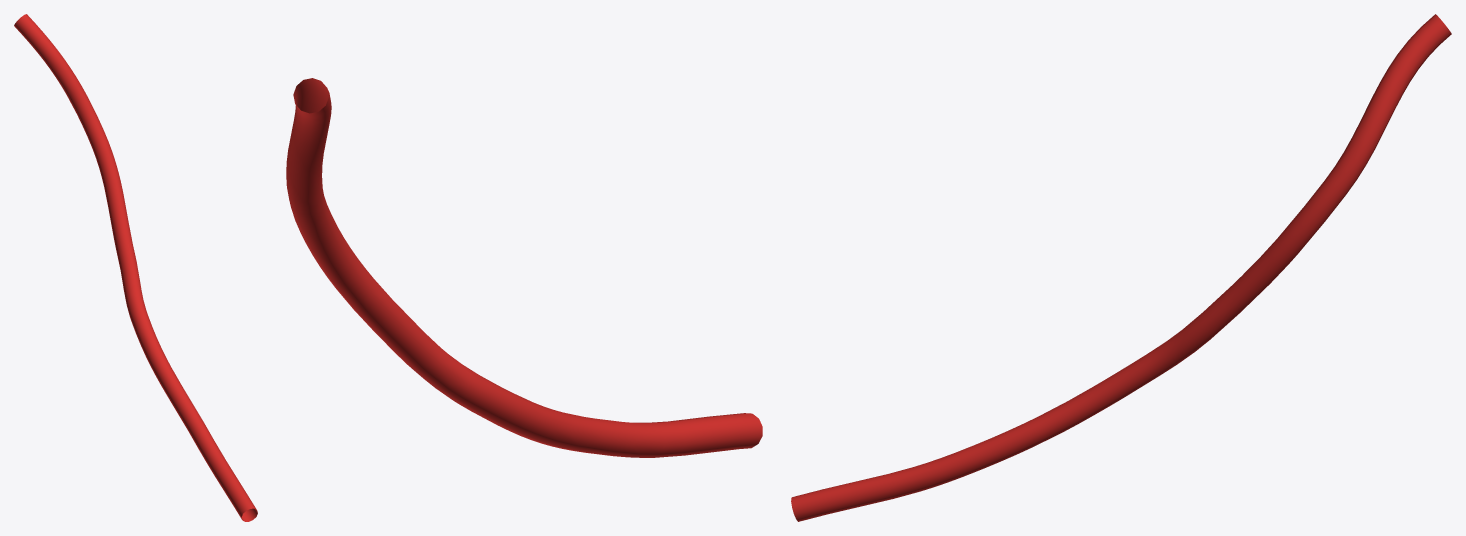
File: circulatorio-buccal-artery-r.glb
3 renders of one model, left to right at view 1: azimuth 30°, elevation 25°; view 2: azimuth 150°, elevation 25°; view 3: azimuth 270°, elevation 25°, orthographic. The views are drawn at different scales.
Parts seen in each view (by area): view 1: Buccal artery.r; view 2: Buccal artery.r; view 3: Buccal artery.r.
Part boxes in pixels (x1,y1,x2,y2): Buccal artery.r: (14, 14, 257, 521); Buccal artery.r: (286, 78, 762, 457); Buccal artery.r: (791, 14, 1451, 521).
Size of the model in its own units: 0.00486 by 0.0299 by 0.0356.
